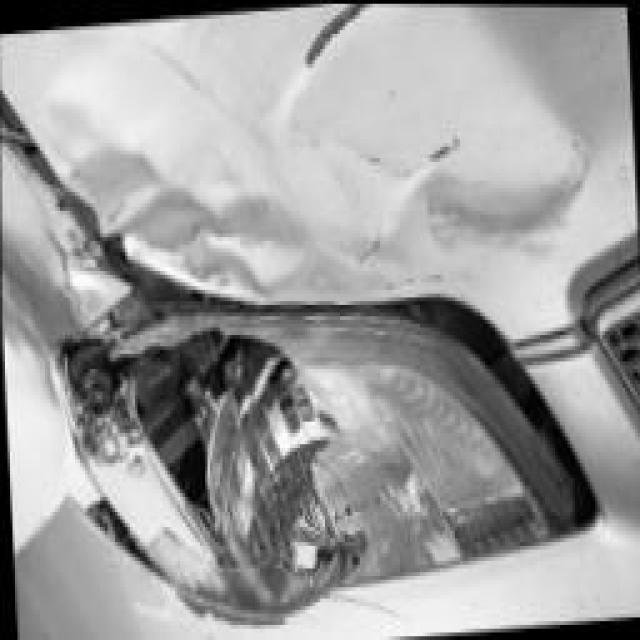Bonnet: (25, 0, 589, 332)
Bumper: (18, 535, 410, 640)
Fender: (0, 215, 96, 475)
Light: (80, 312, 376, 601)
